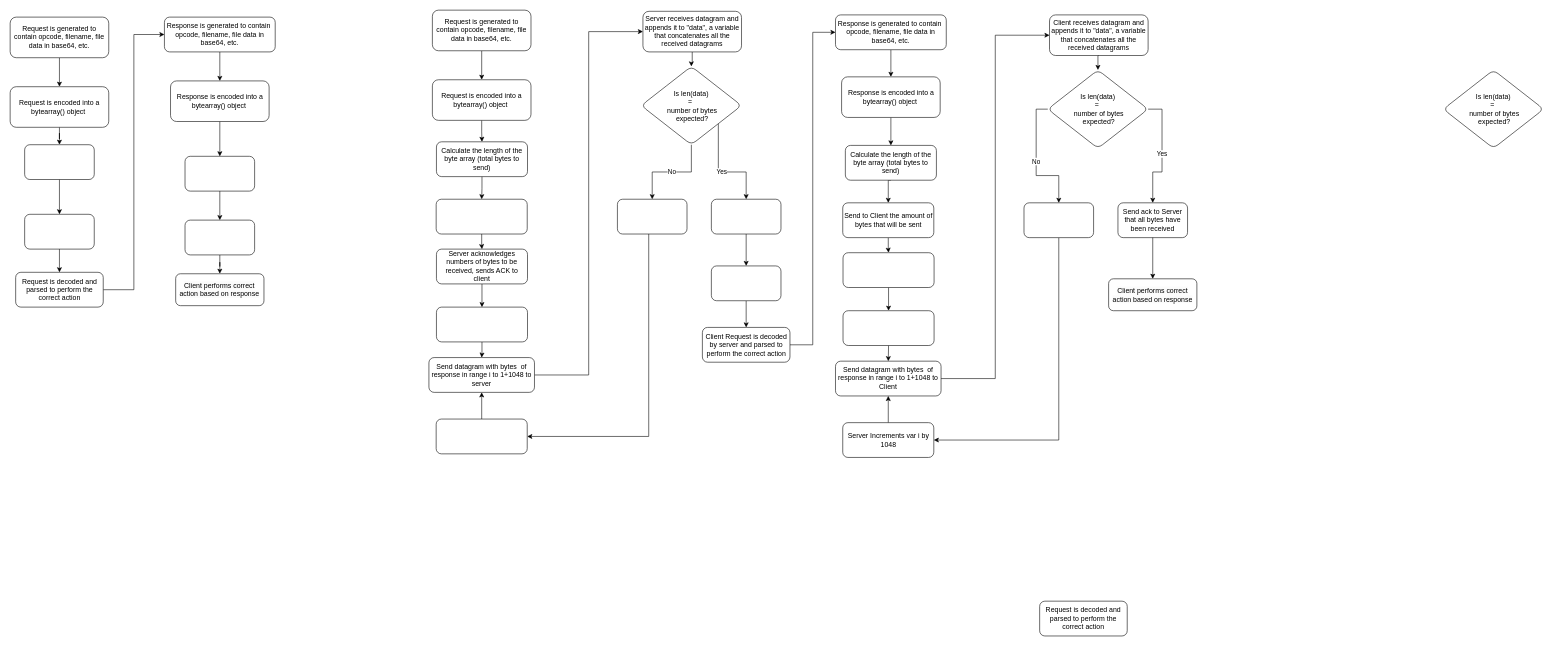
Some shapes in this 1554 by 646 pixel diagram are drawn without their labels. Here are the shapes that lost their labels. From the top down, the centre of each, then its label:
the point at 59,162: Request is sent to socket to IP address and Port
the point at 219,173: Response is sent back to the client
the point at 59,231: Request is received by the server
the point at 481,216: Send to server the amount of bytes that will be sent
the point at 652,216: Send ack to client requesting next datagram
the point at 746,216: Send ack to client that all bytes have been received
the point at 1058,220: Send ack to Server requesting next datagram
the point at 219,237: Client Receives Response
the point at 746,283: Client Waits for server Response
the point at 888,270: Client acknowledges numbers of bytes to be received, sends ACK to client
the point at 482,324: client declares var i = 0
the point at 888,328: Server declares var i = 0
the point at 481,436: client Increments var i by 1048
